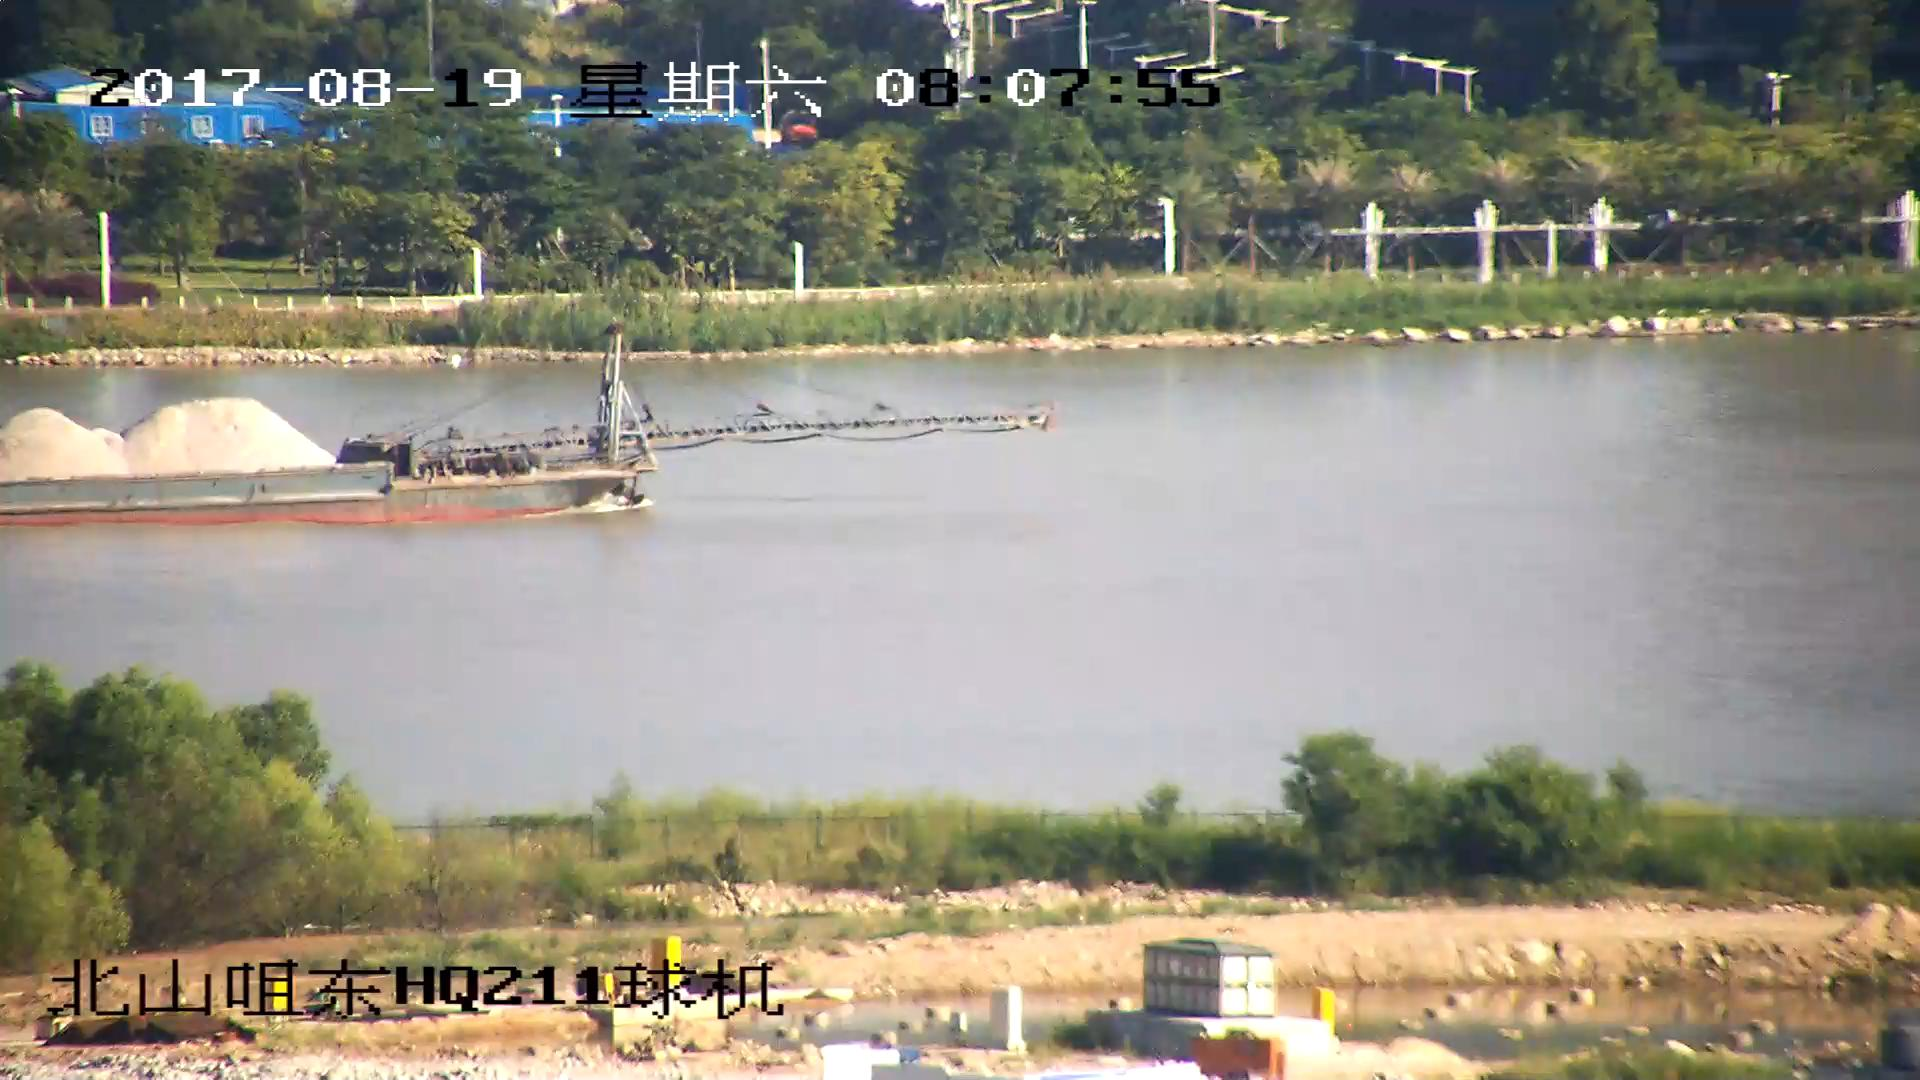ore carrier: (1, 319, 1059, 522)
